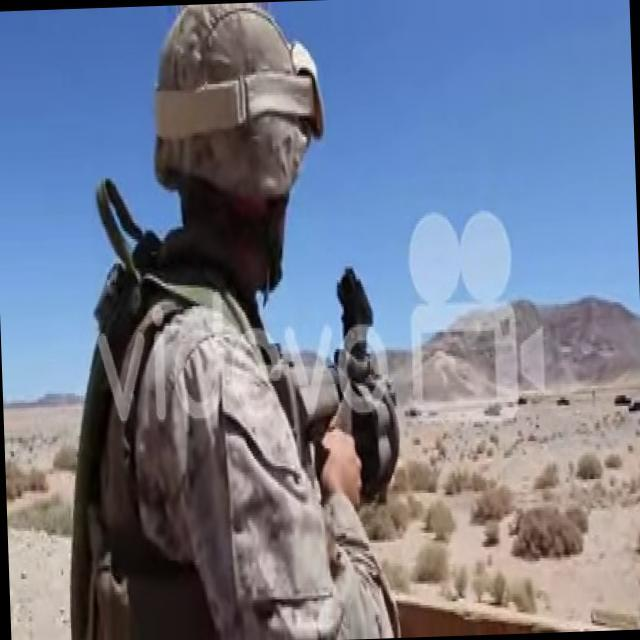rocket: (271, 267, 410, 503)
